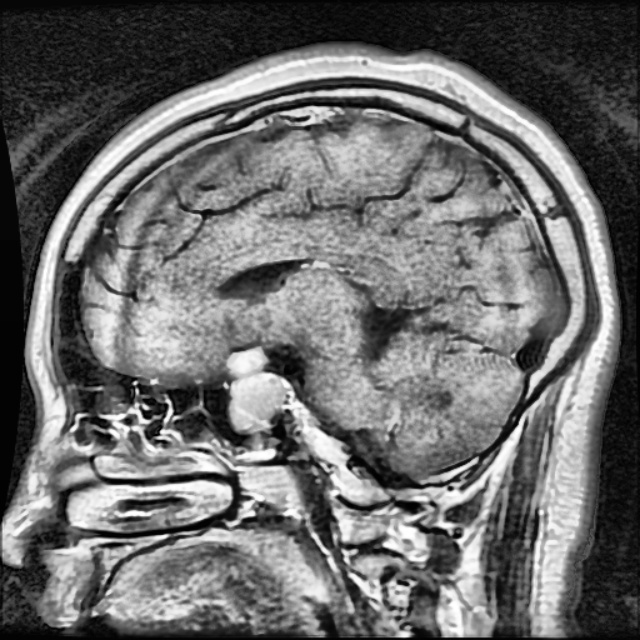Pituitary: (227, 349, 283, 430)
